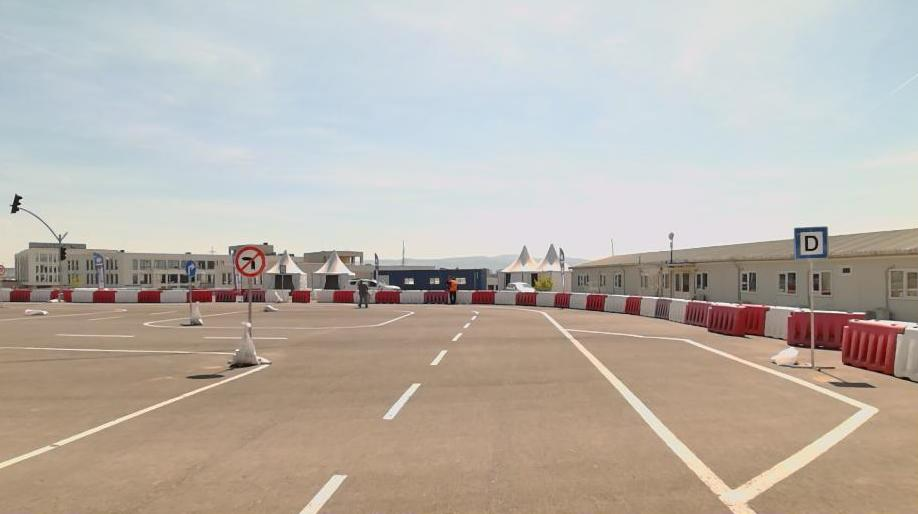nesne: (0, 310, 756, 513), (0, 314, 479, 514), (298, 312, 756, 514), (559, 327, 878, 512), (568, 328, 878, 500), (541, 310, 756, 512), (0, 364, 266, 467), (0, 320, 360, 355), (844, 322, 908, 376), (790, 309, 867, 350), (298, 474, 346, 513), (382, 382, 421, 419), (1, 347, 236, 353), (893, 323, 917, 380), (794, 227, 829, 259), (708, 303, 739, 336), (765, 306, 792, 340), (235, 247, 262, 275), (739, 305, 764, 335), (685, 300, 708, 328), (156, 325, 360, 328), (668, 297, 686, 322), (263, 290, 294, 304), (604, 294, 627, 312), (638, 296, 657, 316), (375, 290, 401, 304), (585, 294, 605, 312), (654, 296, 669, 319), (424, 290, 447, 305), (472, 289, 493, 305), (400, 289, 424, 303), (10, 288, 34, 302), (115, 290, 139, 304), (494, 289, 516, 304), (29, 288, 52, 302), (206, 336, 286, 340), (625, 296, 641, 316), (57, 333, 134, 337), (569, 292, 587, 309), (72, 289, 95, 302), (446, 277, 457, 304), (160, 291, 187, 302), (357, 279, 367, 308), (430, 348, 448, 364), (536, 290, 553, 306), (516, 291, 535, 305), (335, 289, 354, 303), (95, 290, 115, 303), (188, 291, 211, 302), (139, 292, 159, 304), (291, 292, 311, 304), (313, 290, 333, 302), (456, 289, 471, 304), (553, 292, 567, 308), (215, 292, 235, 303), (53, 289, 71, 301), (184, 260, 196, 277), (10, 195, 21, 212), (451, 331, 461, 341), (60, 246, 66, 261), (463, 323, 469, 330)
